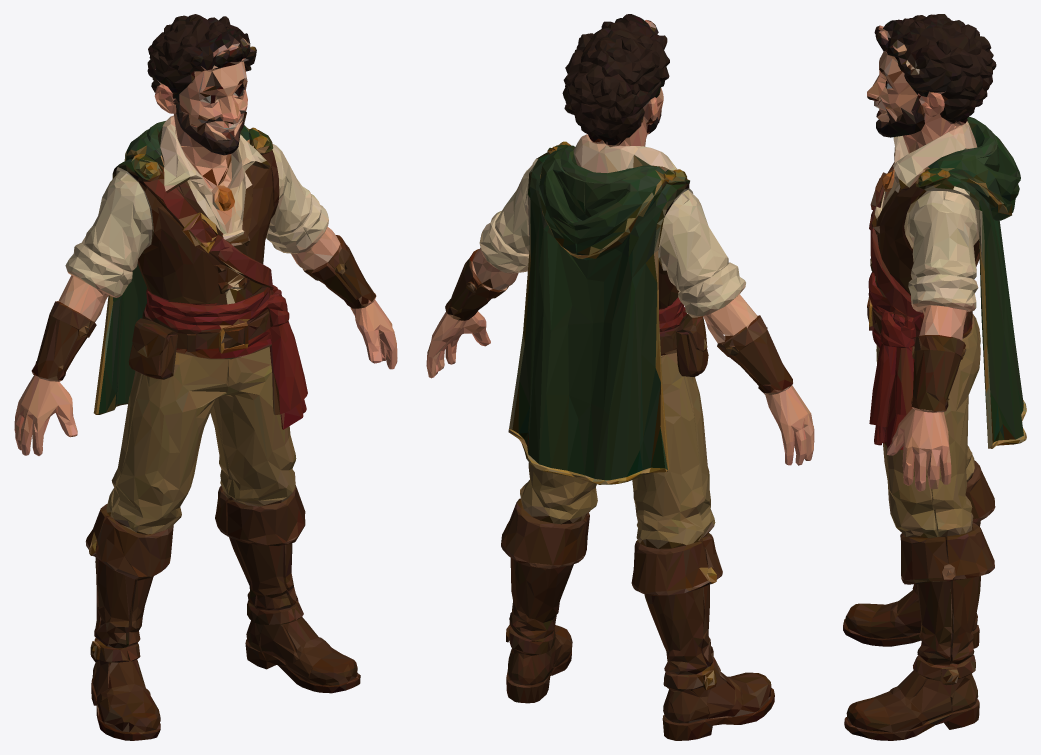
Rendered from reliquia.glb.
The picture shows the model from 3 angles, left to right: view 1: azimuth 30°, elevation 25°; view 2: azimuth 150°, elevation 25°; view 3: azimuth 270°, elevation 25°; orthographic projection.
Visible parts, largest first — view 1: tripo_node_9b00c0f4; view 2: tripo_node_9b00c0f4; view 3: tripo_node_9b00c0f4.
Part boxes in pixels (x1,y1,x2,y2): tripo_node_9b00c0f4: [14, 14, 397, 740]; tripo_node_9b00c0f4: [426, 14, 814, 740]; tripo_node_9b00c0f4: [843, 14, 1026, 740].
Size of the model in its own units: 1.15 by 1.95 by 0.4892.
